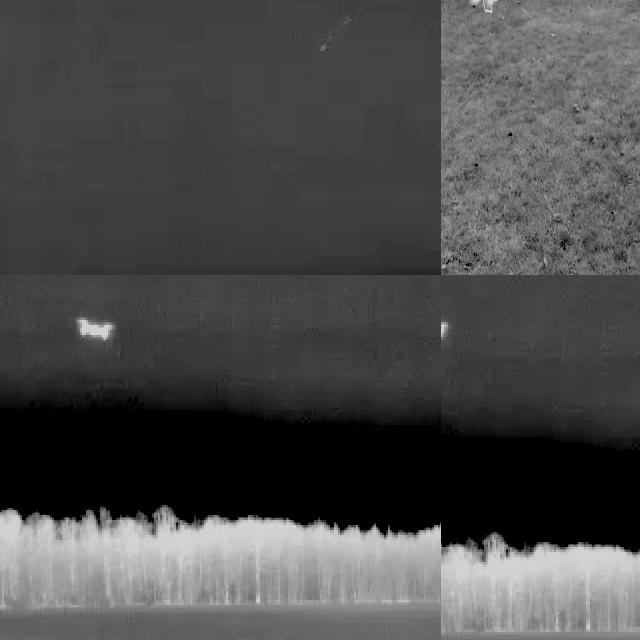0: (306, 31, 340, 66)
1: (64, 314, 124, 348), (441, 314, 459, 349)
drone: (468, 0, 502, 16)
